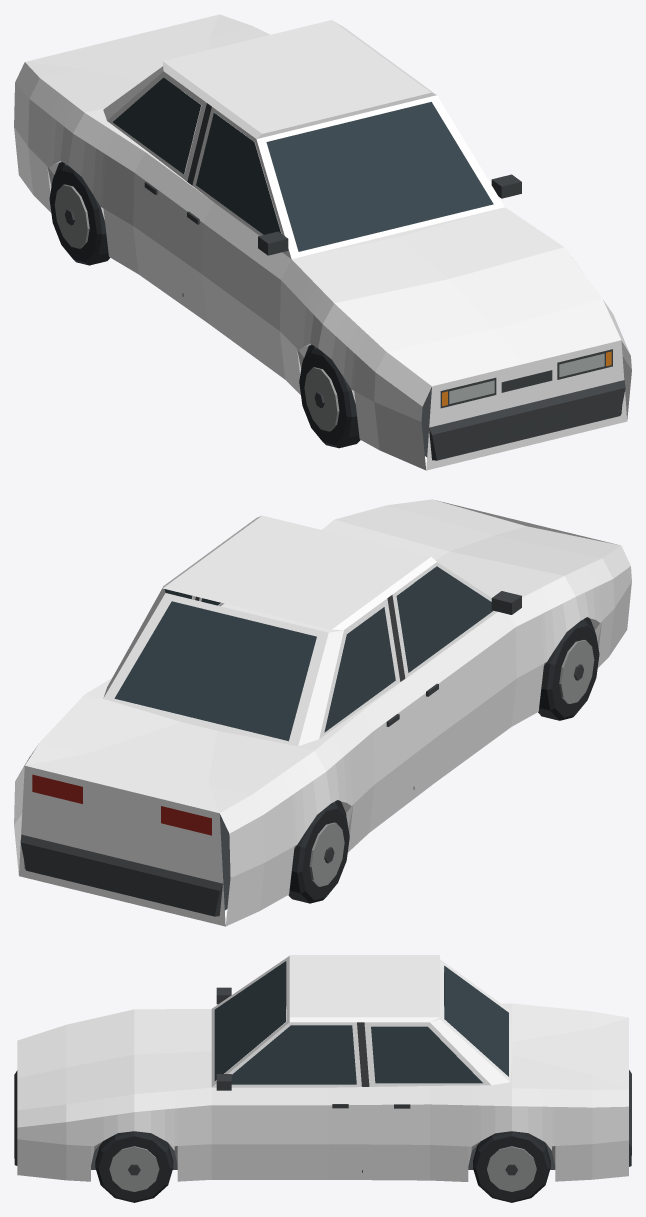
Rendered from vorhaus_zeisig.glb.
3 renders of one model, top to bottom at view 1: azimuth 30°, elevation 25°; view 2: azimuth 150°, elevation 25°; view 3: azimuth 270°, elevation 25°, orthographic. The views are drawn at different scales.
Visible parts, largest first — view 1: vorhaus_zeisig; view 2: vorhaus_zeisig; view 3: vorhaus_zeisig.
Boxes of the visible parts, <box> form: vorhaus_zeisig: <box>14,14,631,470</box>; vorhaus_zeisig: <box>14,499,631,926</box>; vorhaus_zeisig: <box>14,955,631,1202</box>.
Bounding box in the file's own units: 1.82 × 1.5 × 4.91.
8 materials, 1 textured.
